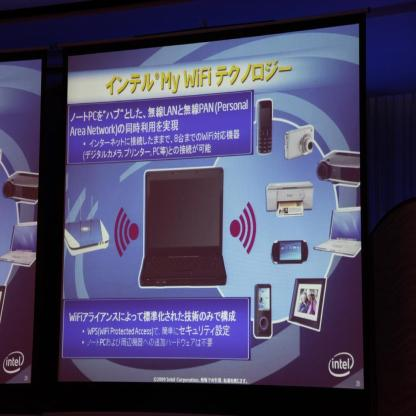board: (140, 159, 228, 295), (315, 207, 361, 257), (0, 220, 38, 268), (64, 221, 110, 256)
